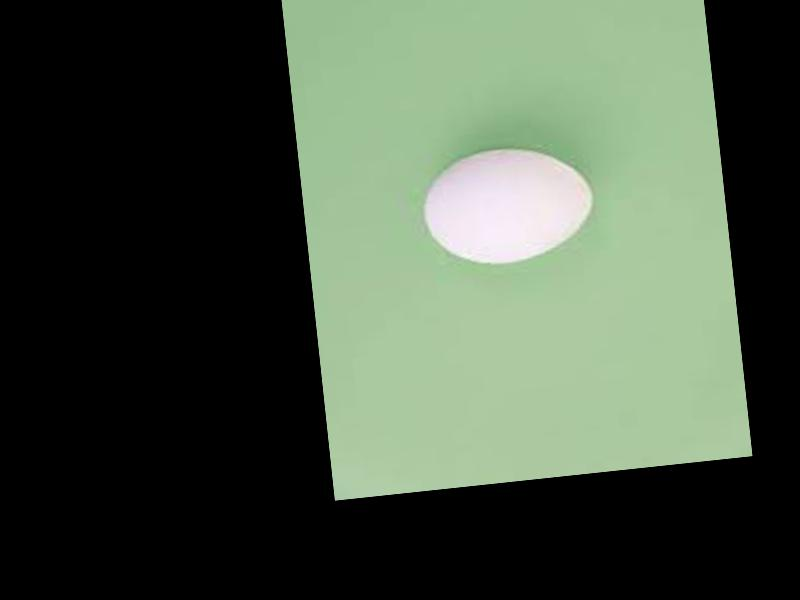Eggs: (416, 138, 598, 271)
